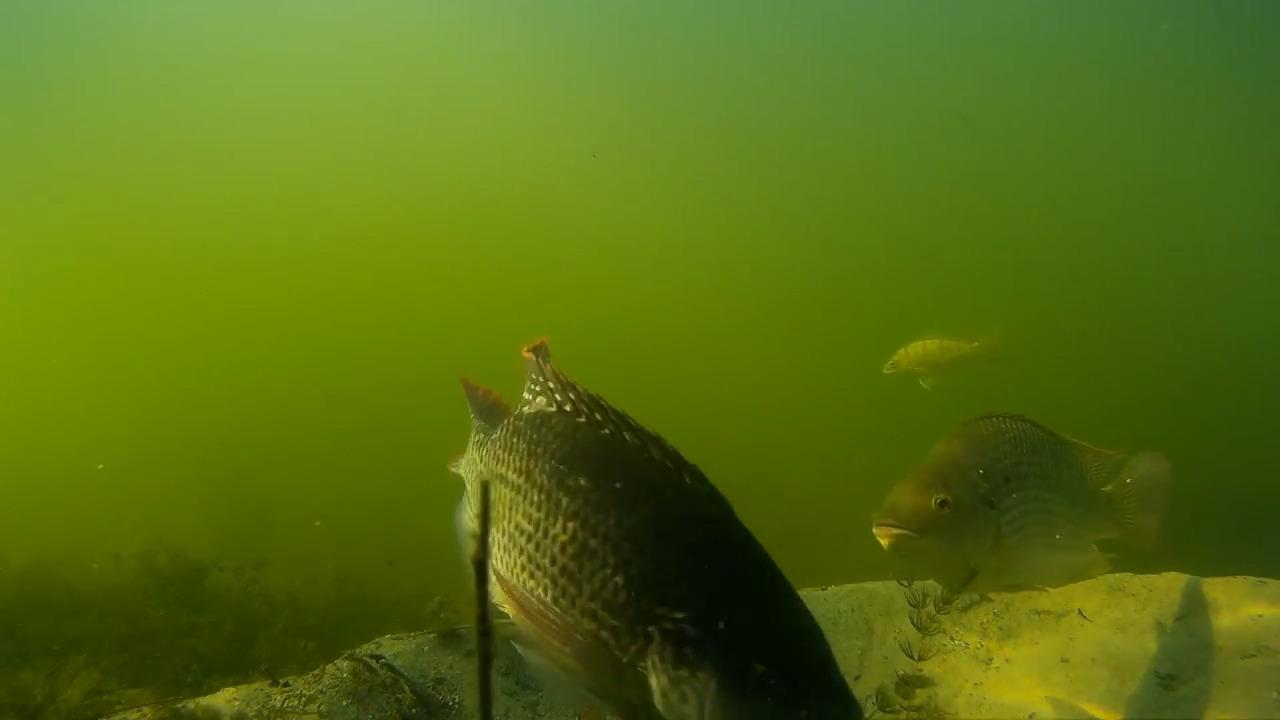Tilapia: (433, 318, 868, 720), (872, 422, 1179, 594), (885, 320, 1014, 404)
